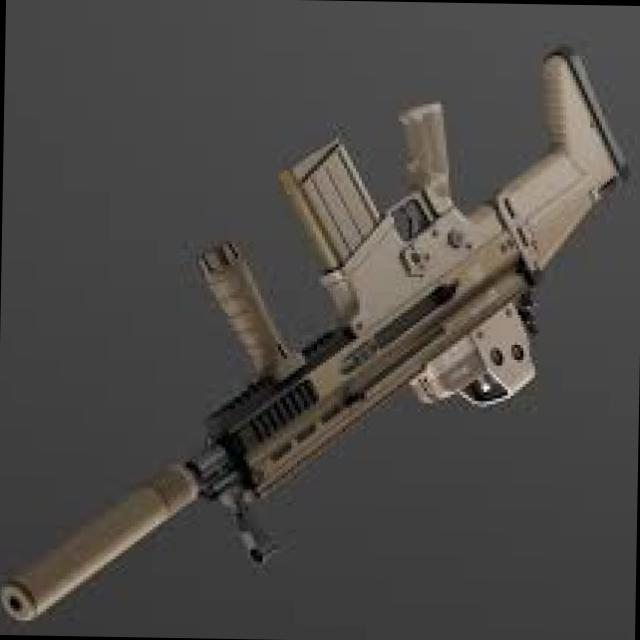Gun: (24, 22, 621, 640)
